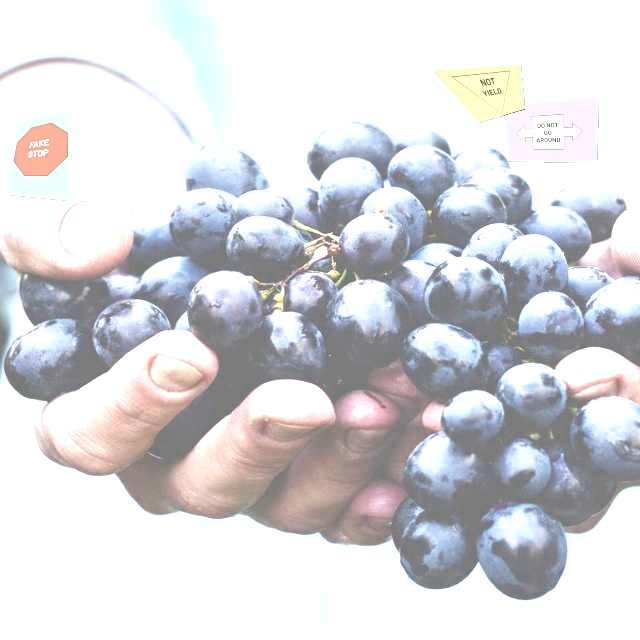DO_NOT_GO_AROUND: (516, 113, 583, 150)
FAKE_STOP: (11, 118, 69, 177)
NOT_YIELD: (452, 63, 521, 123)
